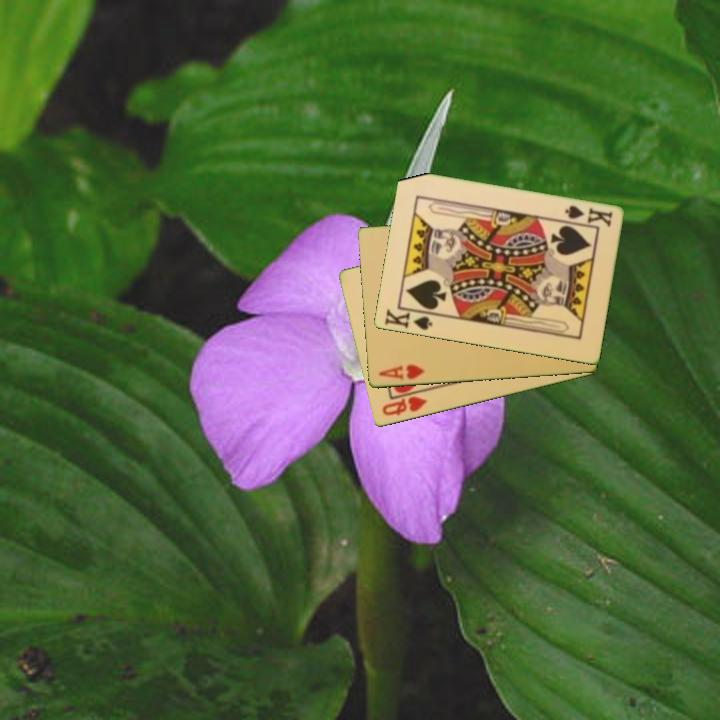Ah: (375, 361, 427, 383)
Ks: (561, 202, 615, 230), (381, 306, 435, 333)
Qh: (378, 393, 430, 419)
